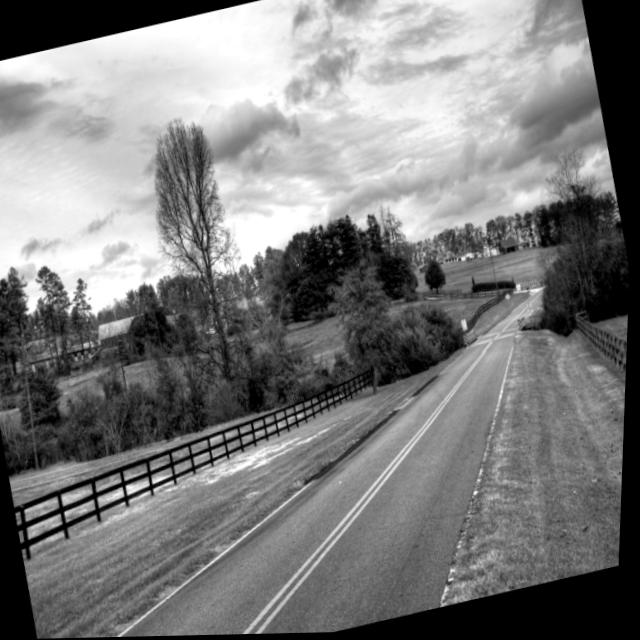cleat: (102, 76, 632, 636)
